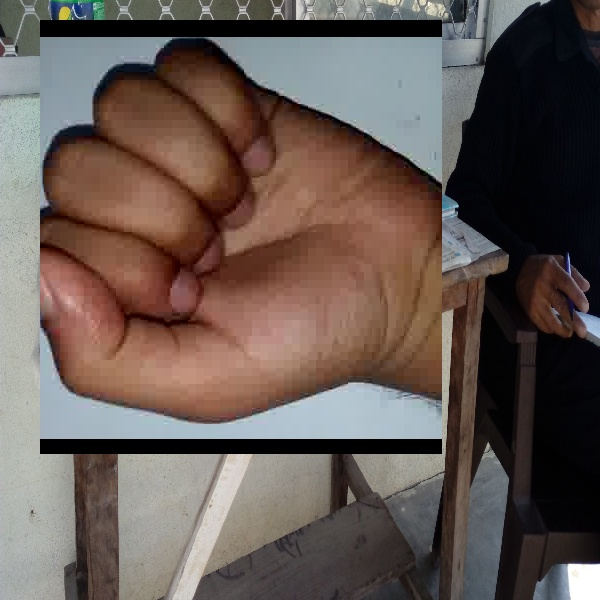A: (40, 20, 442, 454)
